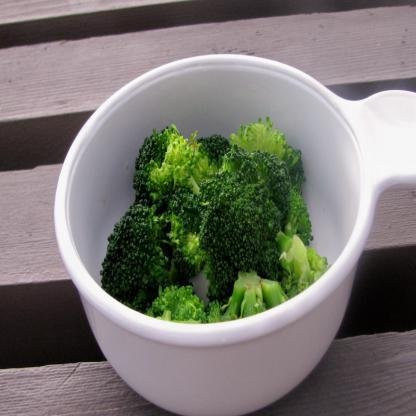broccoli: (100, 112, 333, 334)
